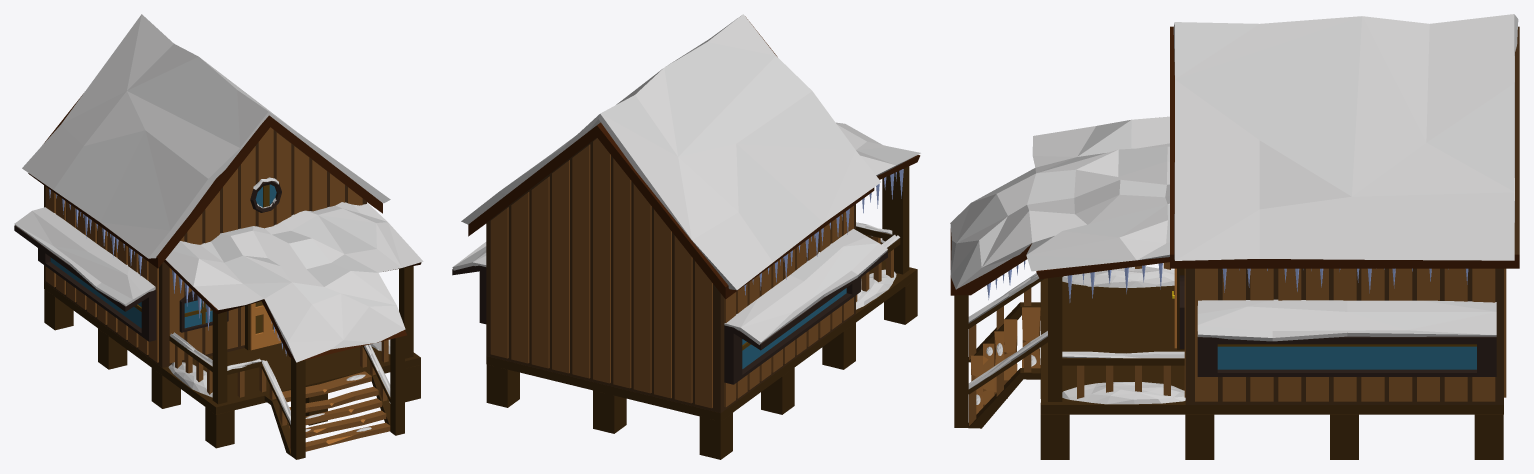
The model's file is House_03_Merged.fbx.
The picture shows the model from 3 angles, left to right: view 1: azimuth 30°, elevation 25°; view 2: azimuth 150°, elevation 25°; view 3: azimuth 270°, elevation 25°; orthographic projection. The views are drawn at different scales.
Visible parts, largest first — view 1: House_03_Merged; view 2: House_03_Merged; view 3: House_03_Merged.
Boxes of the visible parts, x1=… form: House_03_Merged: x1=14, y1=14, x2=423, y2=459; House_03_Merged: x1=452, y1=14, x2=920, y2=459; House_03_Merged: x1=950, y1=14, x2=1519, y2=459.
Size of the model in its own units: 587 by 577 by 787.
